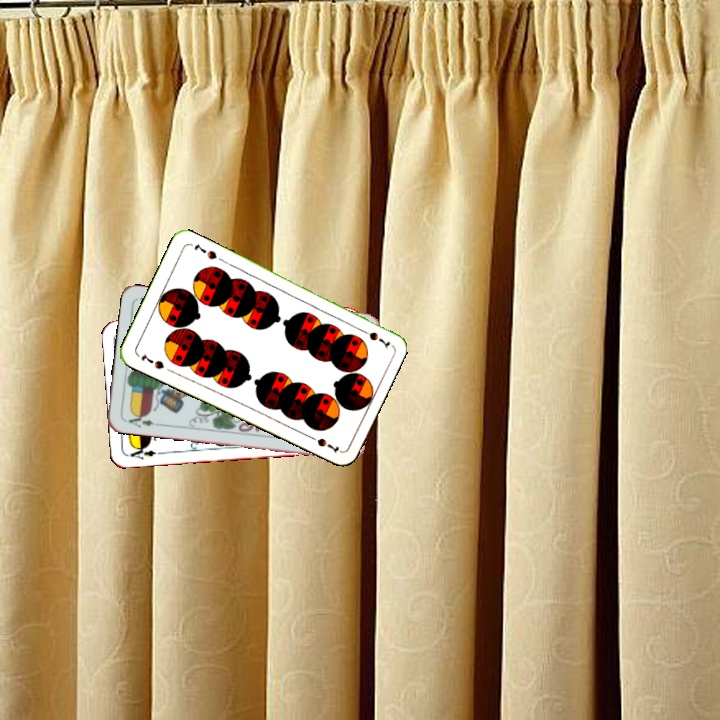EA: (121, 409, 162, 430), (126, 442, 166, 462)
S7: (354, 324, 393, 349), (137, 350, 167, 372)
